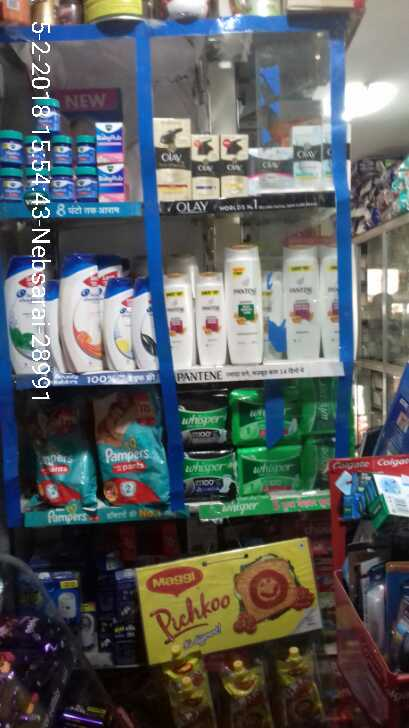vicks: (1, 88, 130, 207)
